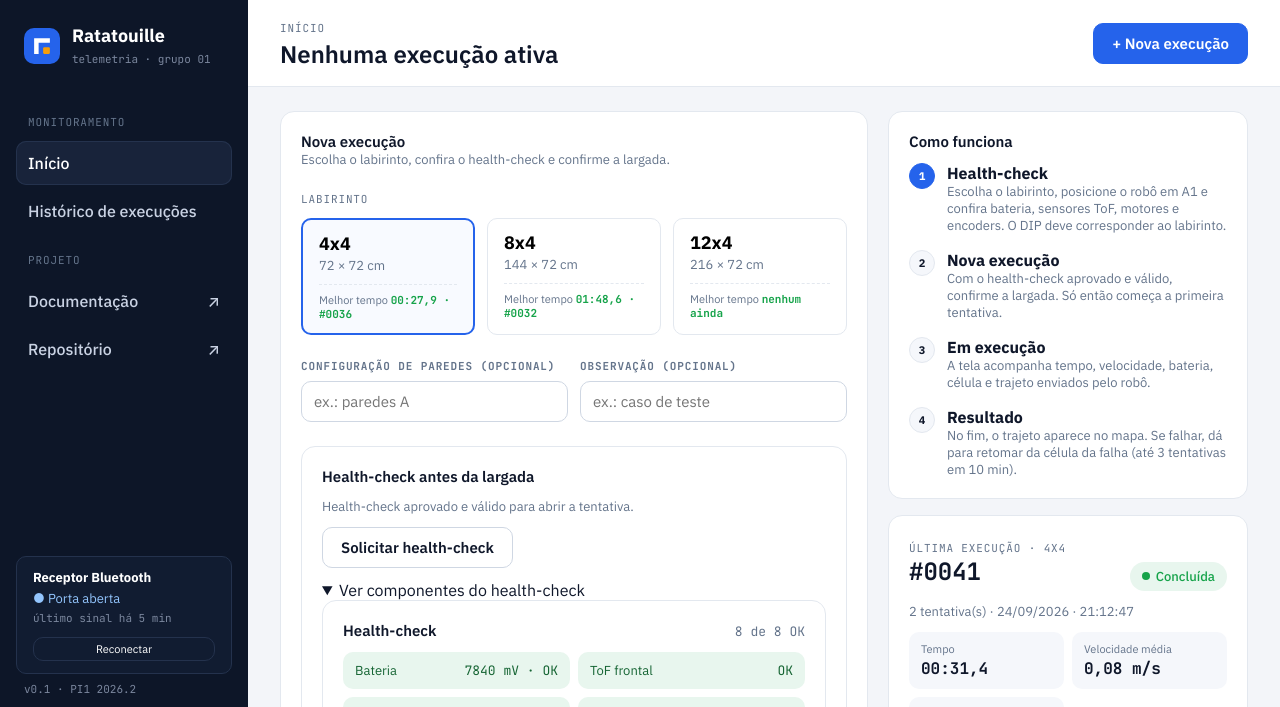
it: Reconectar na tela › avisa quando a ponte não está ligada (409)
Click the button "Reconectar" at {"x": 124, "y": 649}, box 33,637 -> 215,661
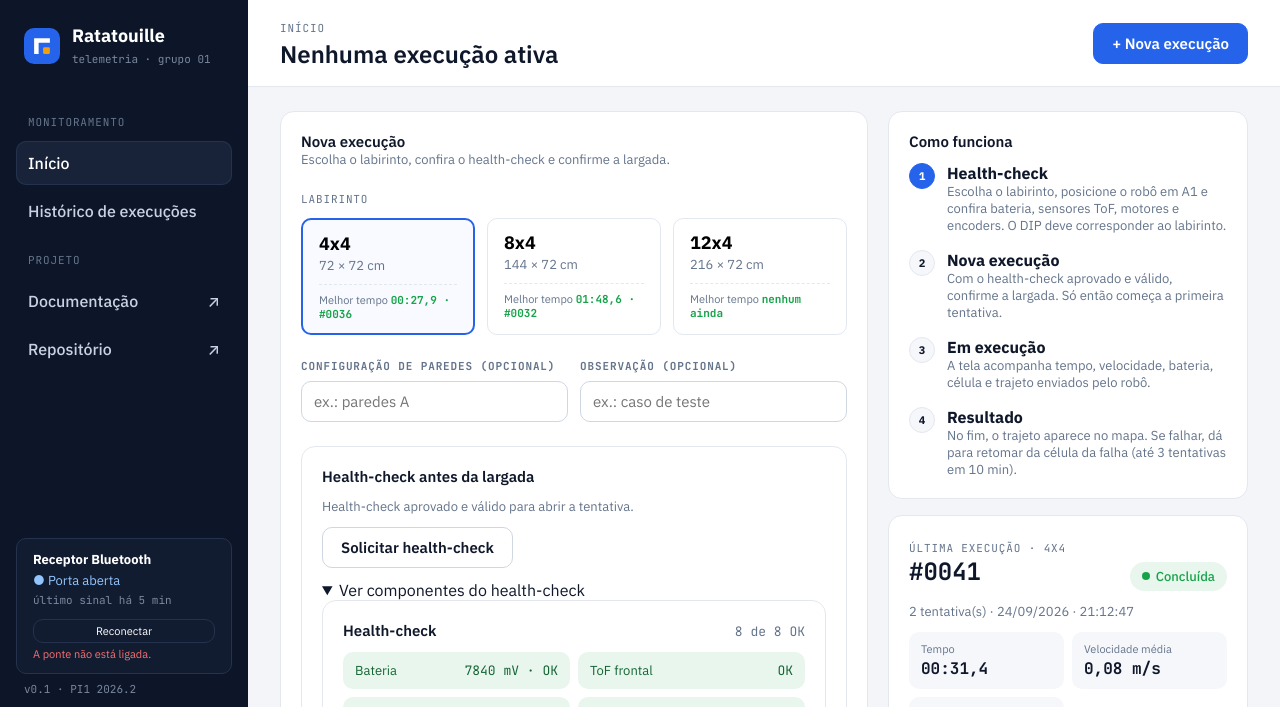
Now the text "A ponte não está ligada." is shown, box 33,647 -> 151,661
